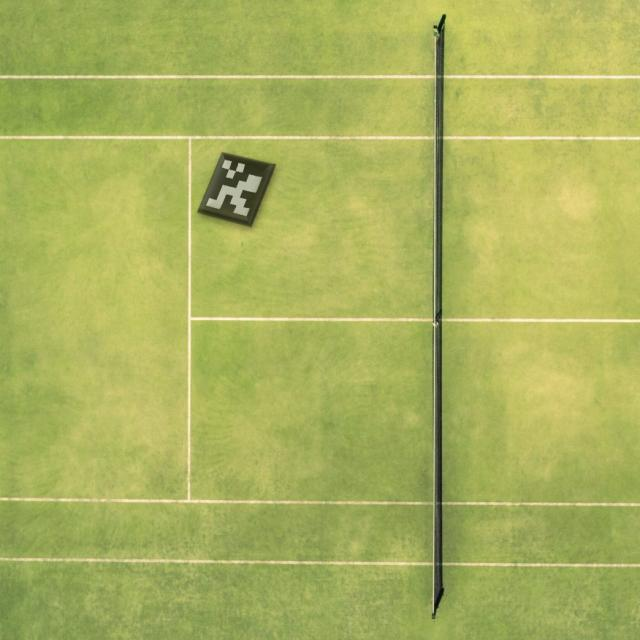marker: (195, 144, 278, 238)
